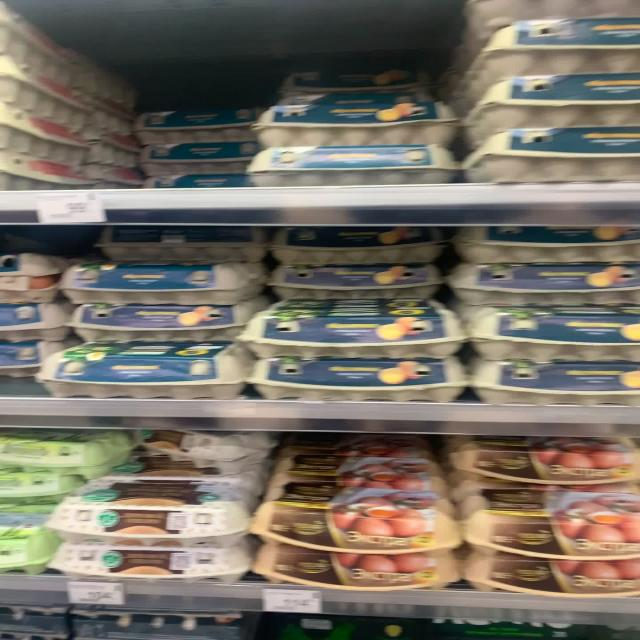egg box: (462, 13, 638, 106), (35, 339, 254, 401), (245, 491, 462, 552), (242, 349, 465, 408), (50, 483, 261, 545), (464, 72, 638, 147), (462, 485, 636, 560), (251, 537, 464, 597), (244, 302, 466, 358), (250, 93, 457, 149), (55, 258, 262, 312), (439, 433, 637, 488), (468, 300, 638, 361), (468, 125, 636, 185), (50, 536, 252, 585), (448, 260, 638, 311), (464, 546, 638, 600), (245, 144, 459, 187), (263, 450, 445, 496), (468, 357, 638, 404), (453, 221, 638, 264), (64, 301, 258, 341), (100, 223, 272, 266), (266, 264, 446, 304), (272, 222, 443, 264), (0, 429, 137, 477), (132, 102, 262, 144), (140, 141, 256, 176)
